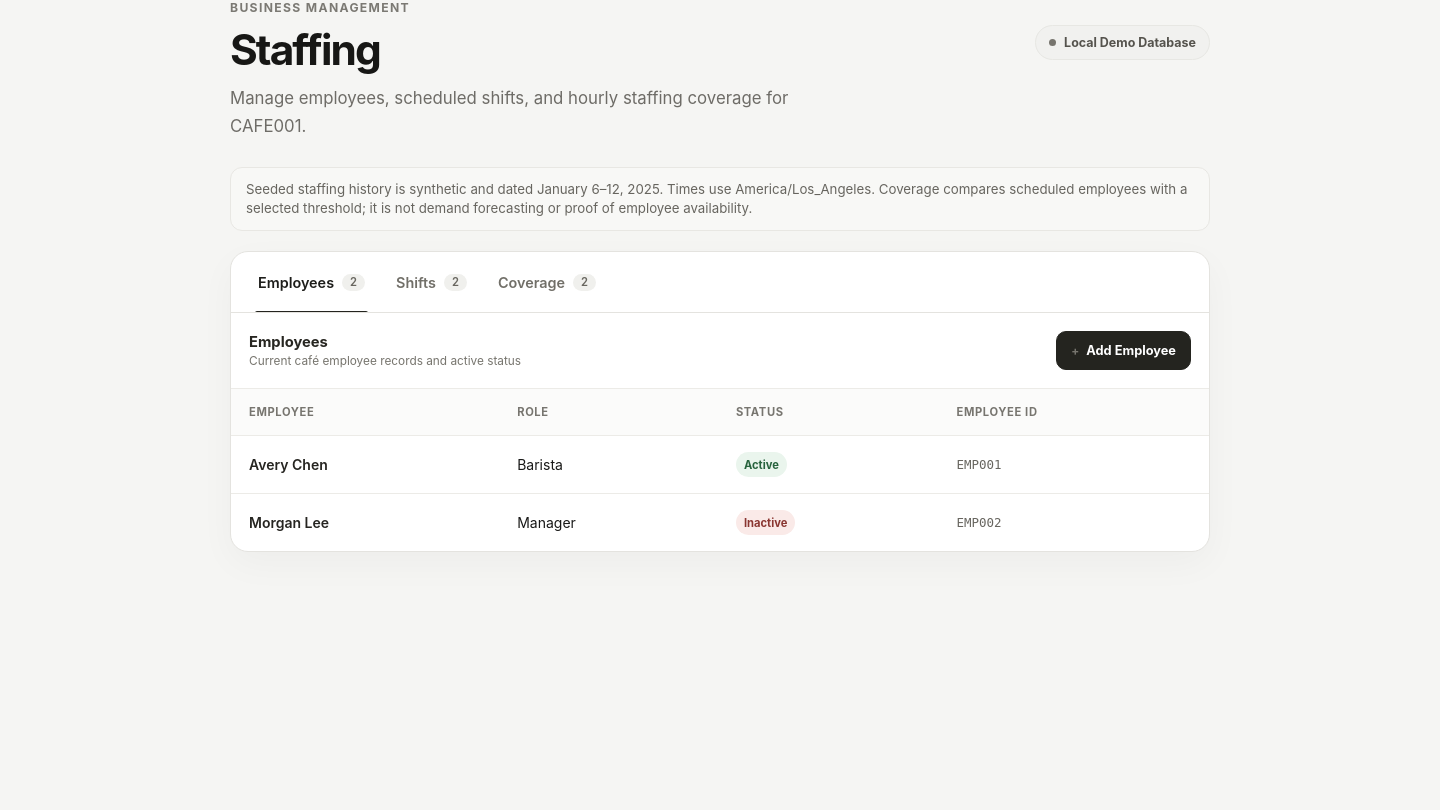
Test: StaffingPage › lists shifts and schedules an overnight café-local shift
Expected: the text "Avery Chen" is shown, [231,436,499,494]
Click the tab "Shifts 2".
click(431, 288)  # box [383,264,480,312]
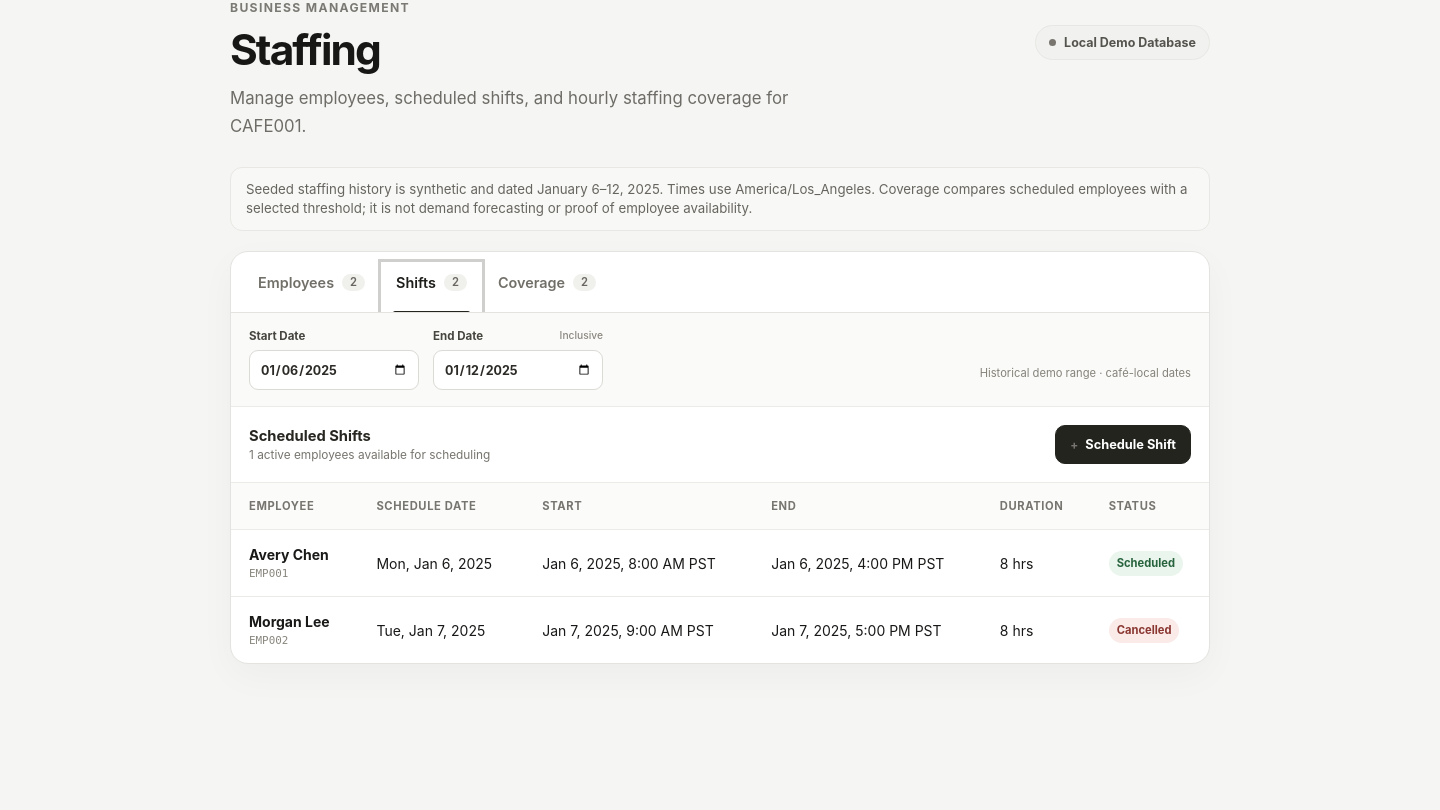
Expected: the text "8 hrs" is shown 2 times, [982,530,1091,597]; [982,597,1091,663]
Expected: the text "Scheduled" is shown, [1109,551,1183,576]
Click the button "+ Schedule Shift".
click(1123, 445)  # box [1055,425,1191,464]
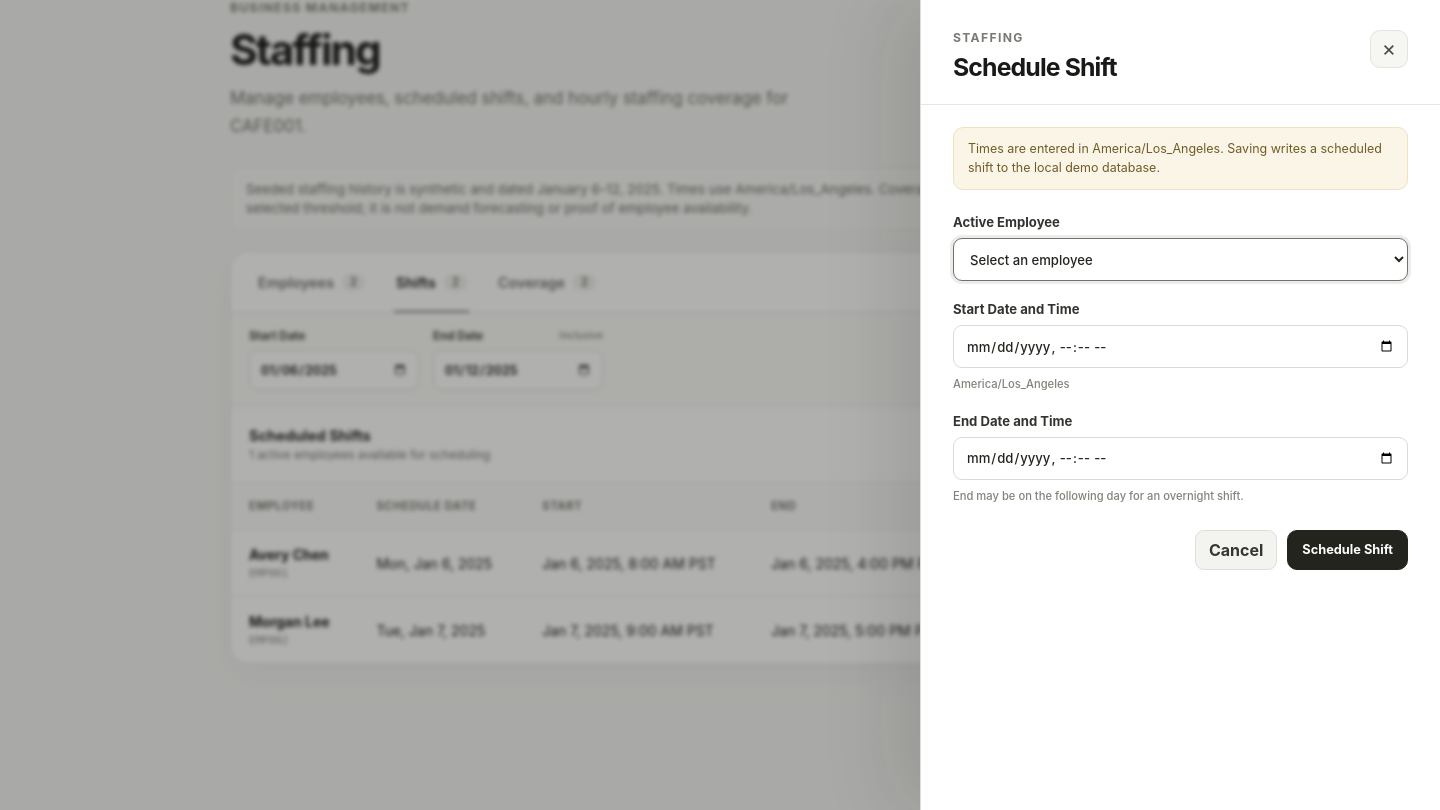
Select "Avery Chen · Barista" in the dropdown labelled "Active Employee" at (1180, 260), box [953,238,1408,281]
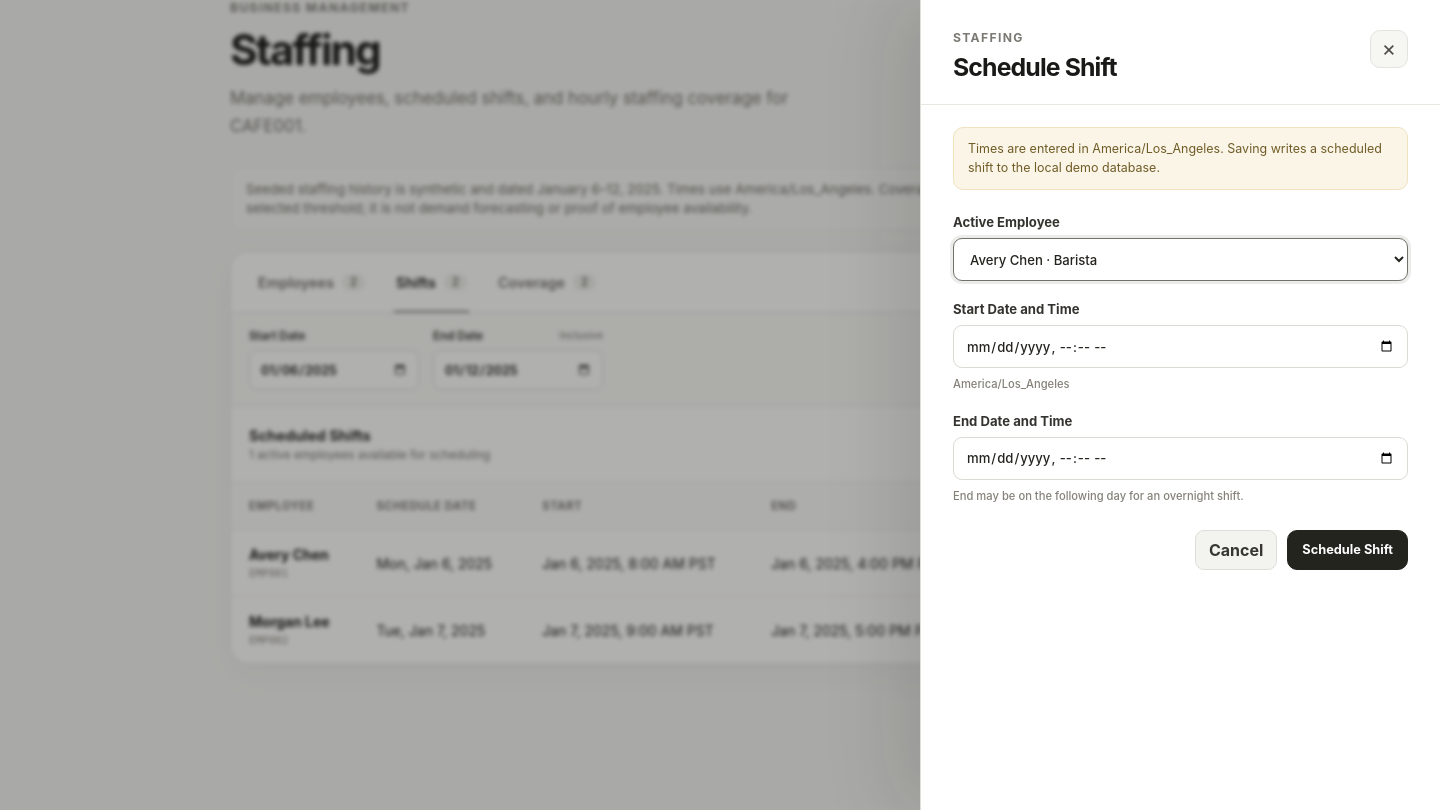
Type "2025-01-12T22:00" into the field labelled "Start Date and Time".
click(1180, 347); type("2025-01-12T22:00")  # box [953,325,1408,368]
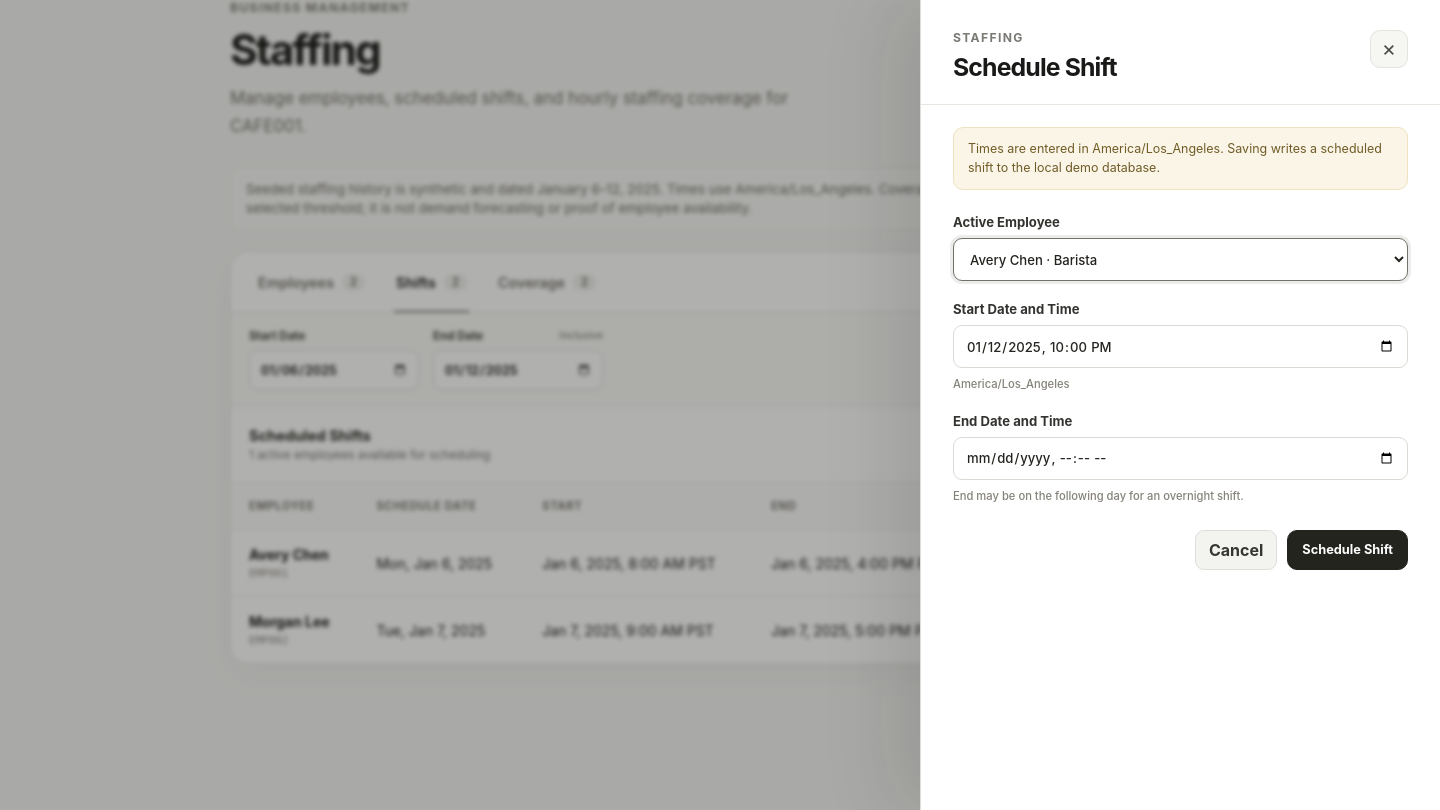
Type "2025-01-13T06:00" into the field labelled "End Date and Time".
click(1180, 458); type("2025-01-13T06:00")  # box [953,437,1408,480]
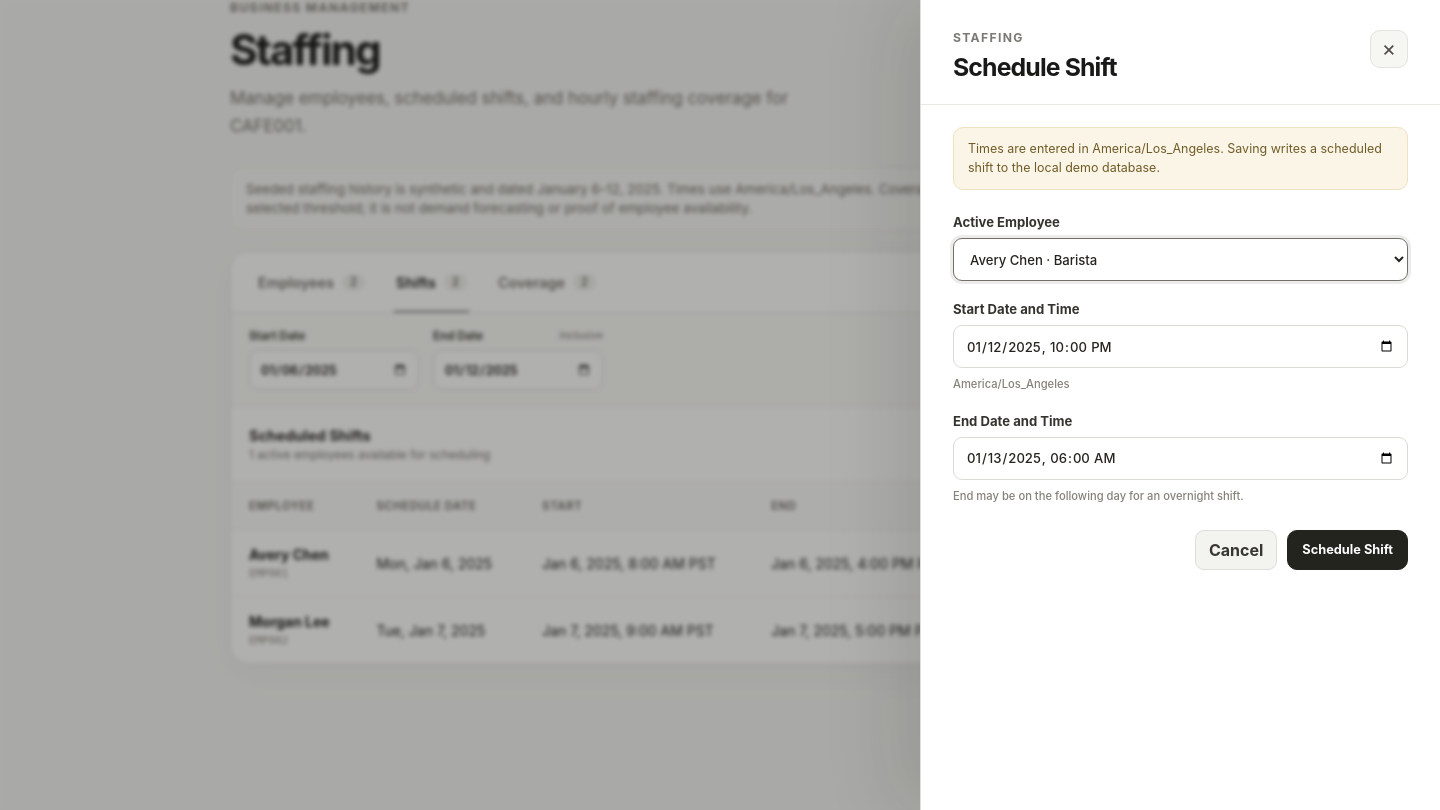
Click the button "Schedule Shift".
click(1348, 550)  # box [1287,530,1408,570]
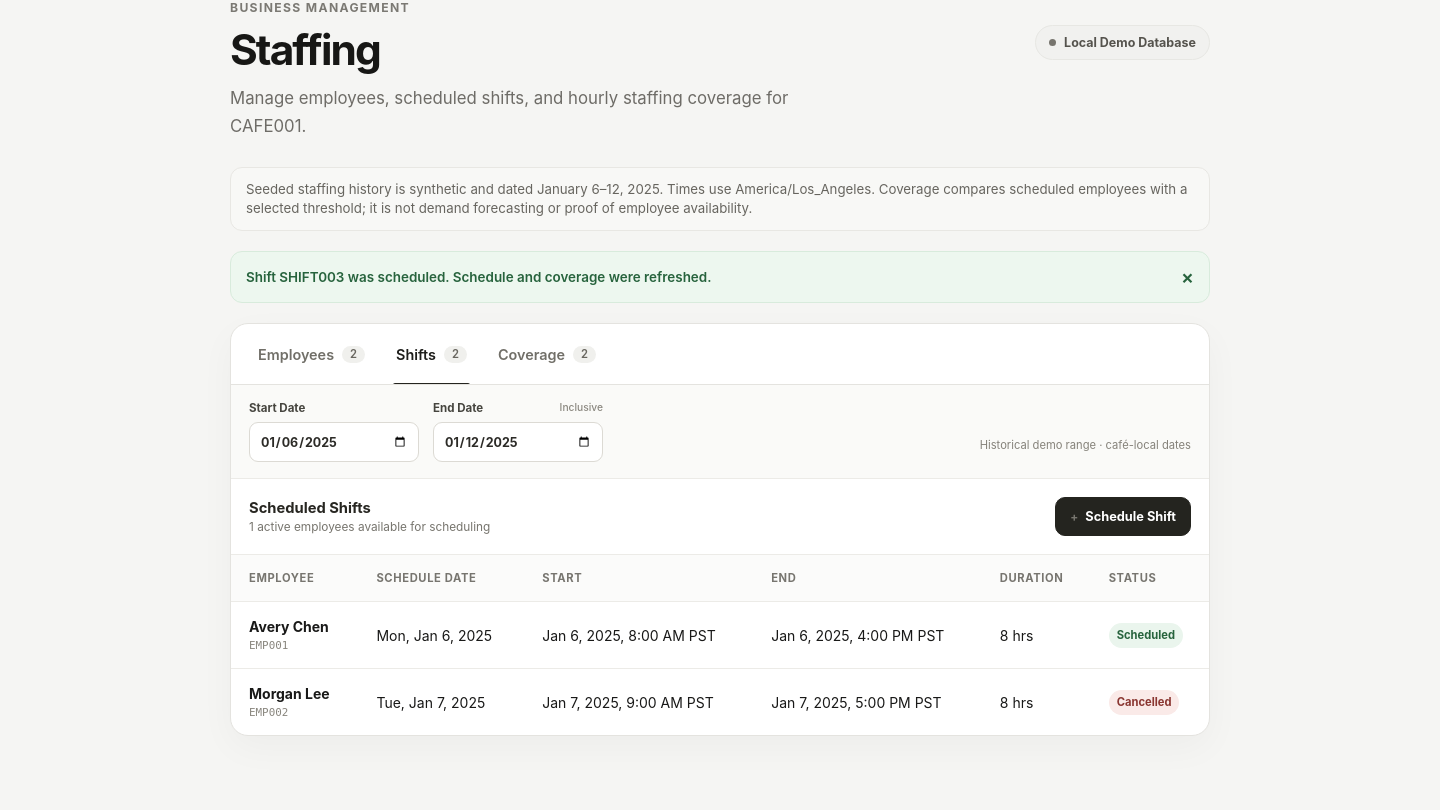
Expected: the text "SHIFT003 was scheduled" is shown, [246,269,712,285]
